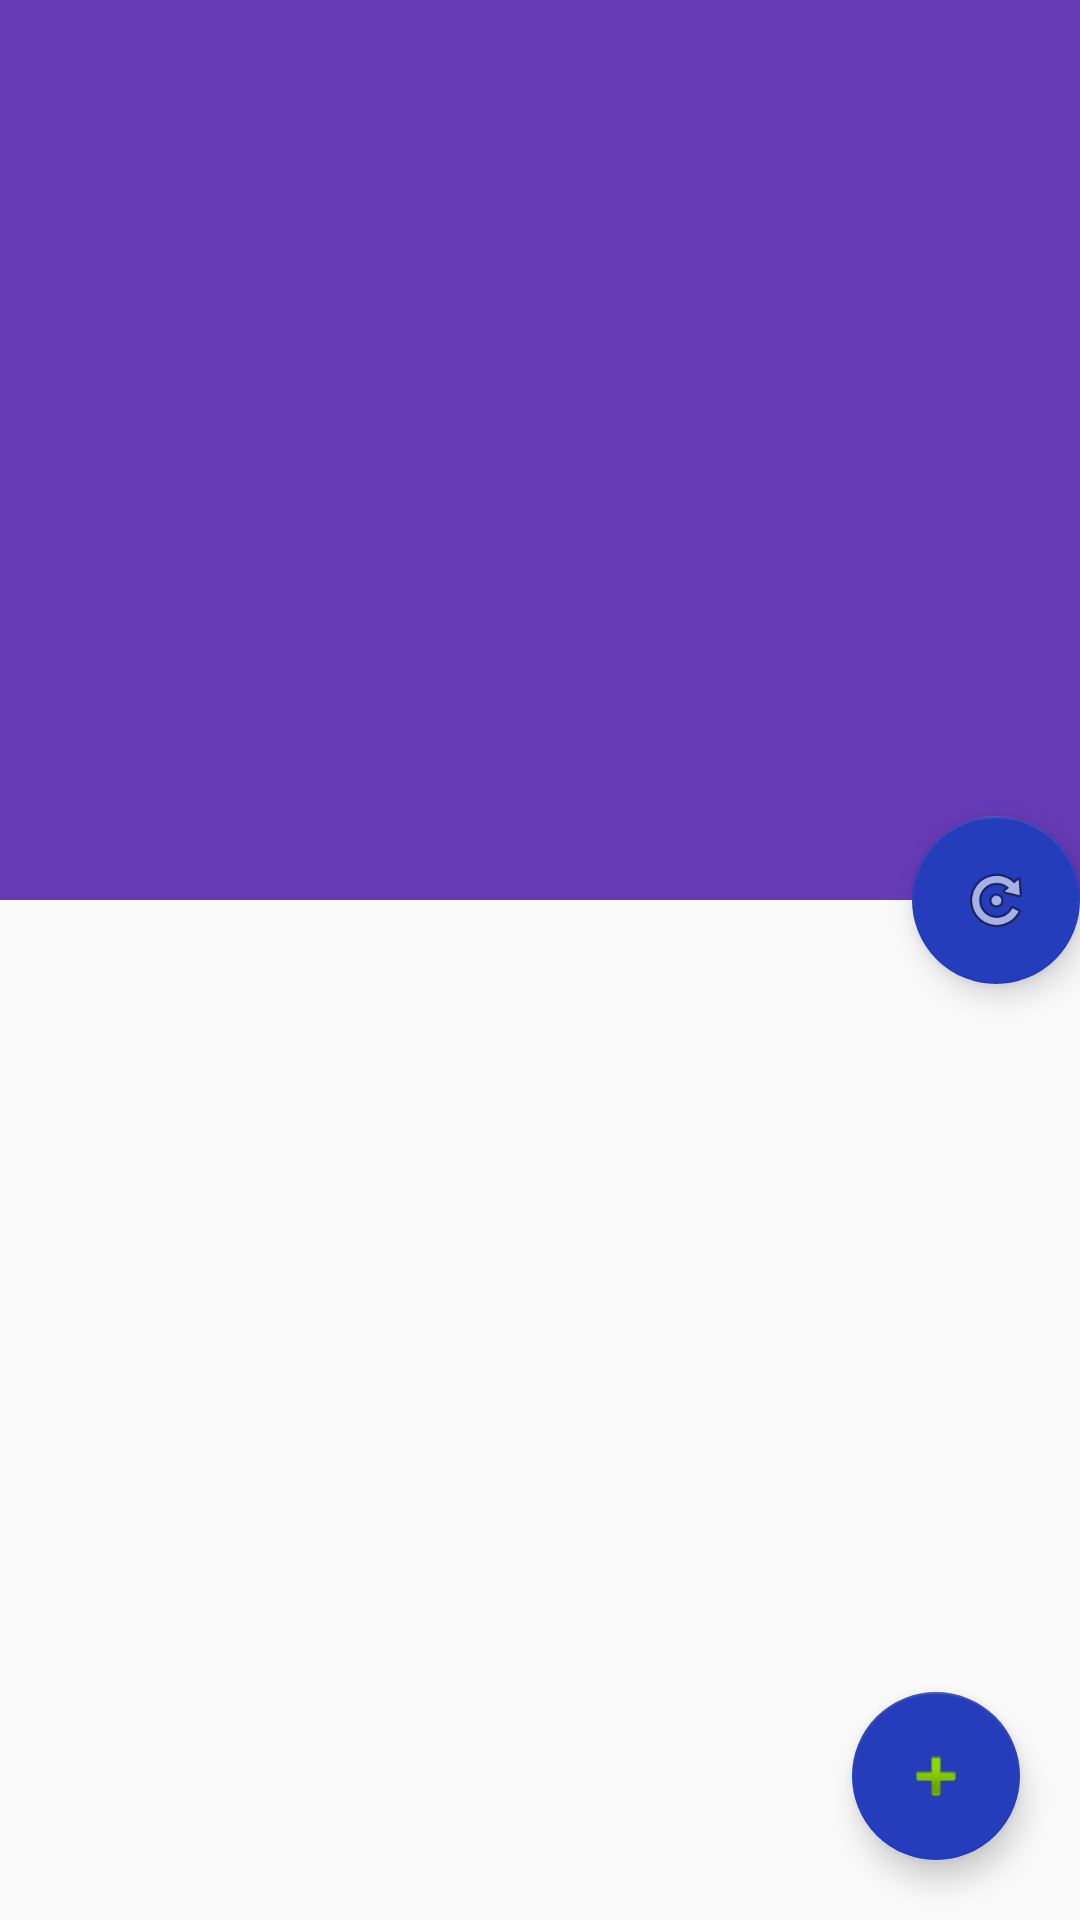

Where to tap for icons on this 1080w x 1920h app screen, as (x=x, y=y):
add: (x=936, y=1776)
rotate: (x=996, y=900)
